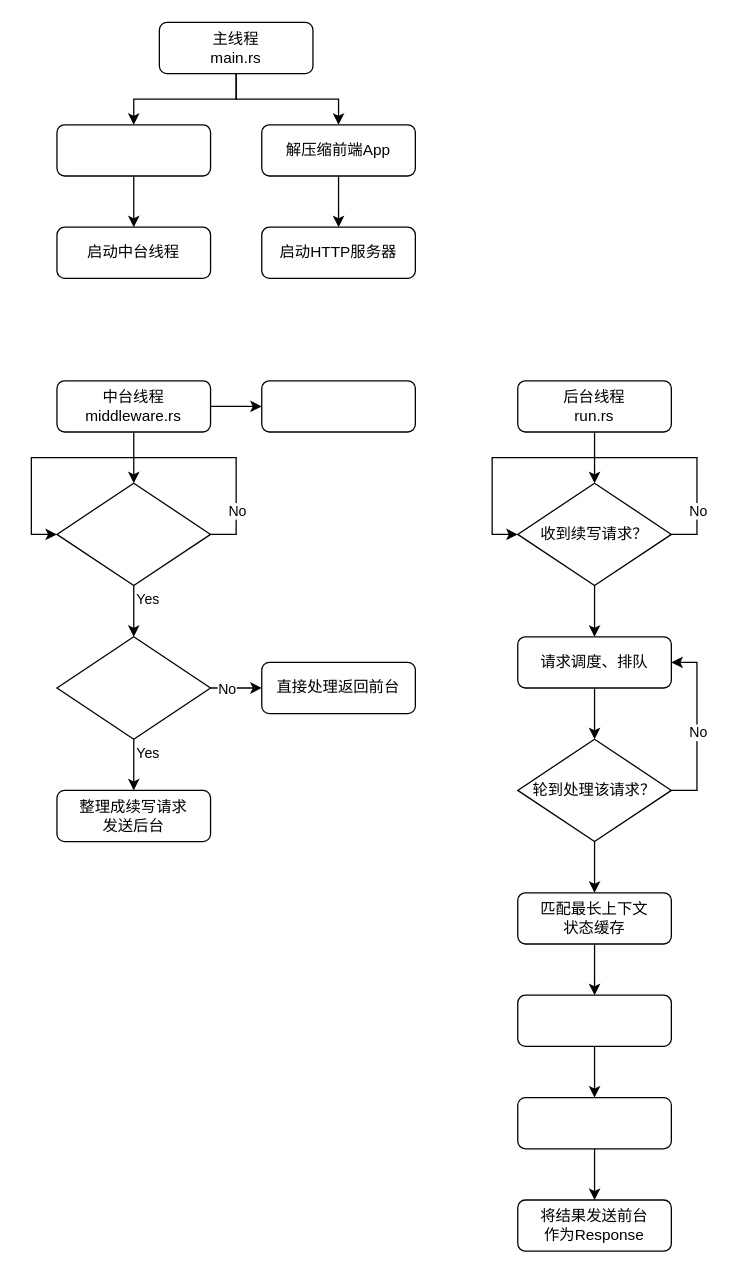
This 730x1274 diagram has some shape labels left out. The shapes that lost their labels are listed below. From the top down, each one's centre as x and y in pixels, then its label:
At point 133,150: "读取配置文件".
At point 337,406: "启动后台线程".
At point 133,534: "收到API Request？".
At point 133,687: "是生成请求？".
At point 593,1020: "生成文字 直到停止".
At point 593,1122: "缓存当前上下文 以及状态".
